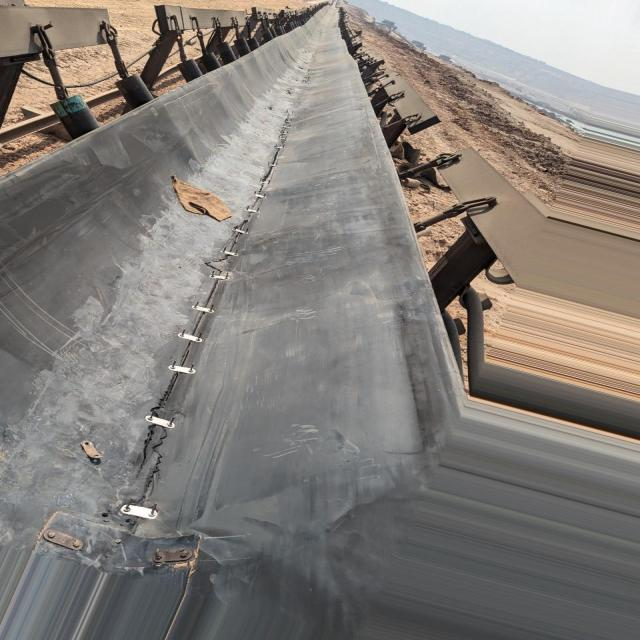Other Objects: (172, 176, 232, 221)
Roller: (177, 23, 294, 83), (51, 92, 104, 140), (117, 73, 156, 107)
patch work: (112, 149, 282, 532), (32, 512, 198, 568)
